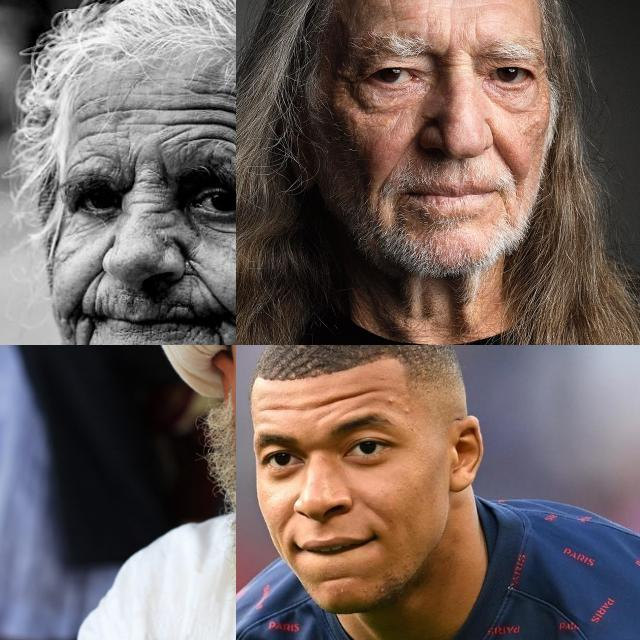bunny_line: (140, 203, 180, 239)
chin: (315, 574, 353, 588)
crows_feet: (334, 62, 364, 90)
forehead: (166, 93, 236, 147), (77, 99, 127, 158), (308, 386, 397, 410), (260, 398, 300, 418), (450, 0, 498, 14), (383, 0, 403, 25)
frown_line: (125, 151, 142, 191), (152, 152, 170, 188), (442, 23, 458, 53), (441, 58, 469, 74), (470, 15, 484, 45)
gummy_smile: (175, 248, 222, 304), (72, 262, 110, 310), (391, 132, 422, 178), (488, 138, 518, 174), (362, 498, 386, 524), (275, 509, 297, 536)
sad_smile: (70, 321, 103, 345), (210, 329, 236, 345)
